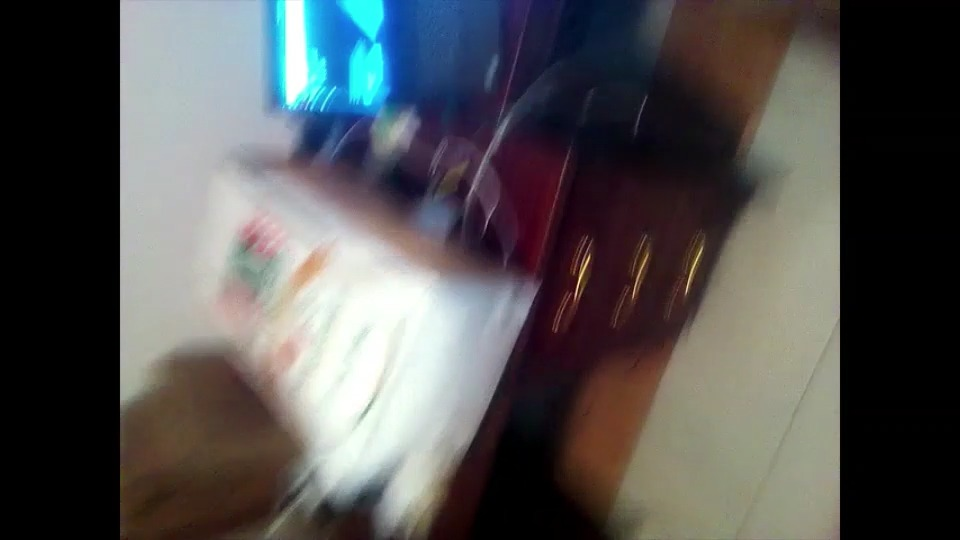maize_flour_green_label: (196, 153, 531, 471)
